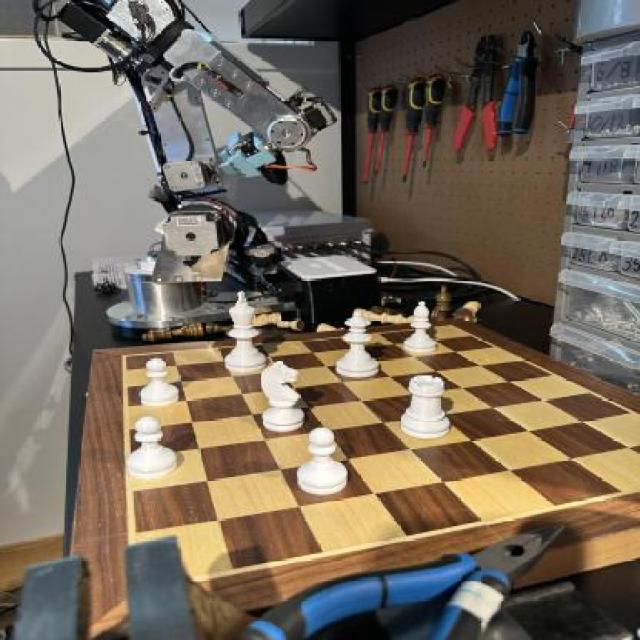black-rook: (403, 302, 446, 358)
white-bishop: (221, 288, 274, 379), (390, 349, 394, 350)
white-king: (254, 360, 314, 436)
white-knight: (120, 416, 188, 482), (298, 429, 356, 498), (137, 357, 180, 411)
white-pawn: (335, 312, 384, 387)
white-queen: (401, 375, 464, 444)
